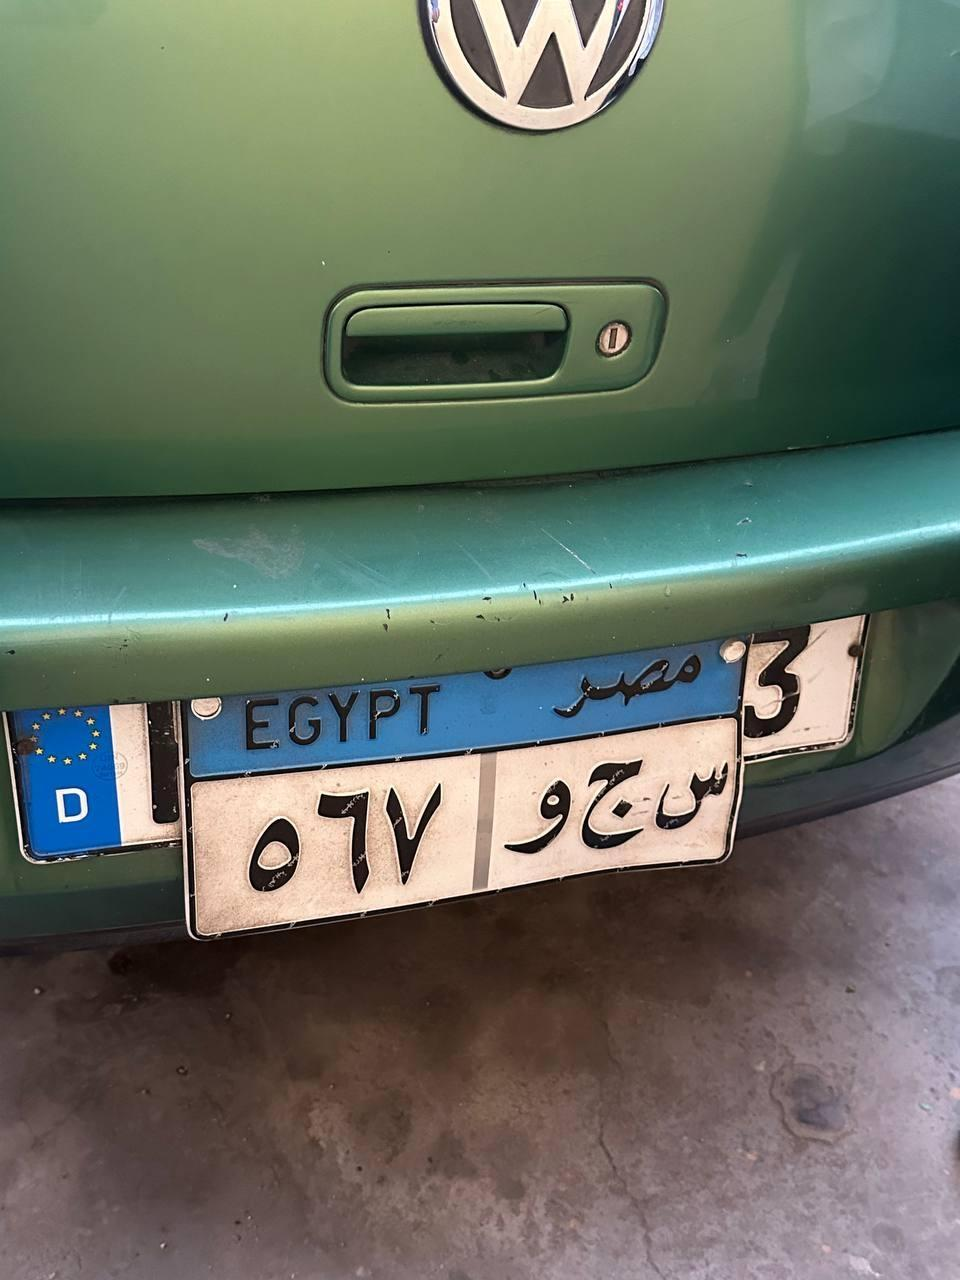5: (244, 798, 304, 909)
6: (317, 782, 381, 904)
7: (382, 784, 446, 879)
License Plate: (165, 632, 746, 951)
Seen: (656, 763, 740, 844)
Wow: (502, 778, 572, 870)
geem: (584, 742, 652, 852)
